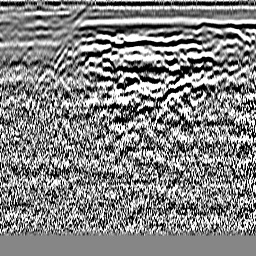cavity: (116, 68, 142, 93)
